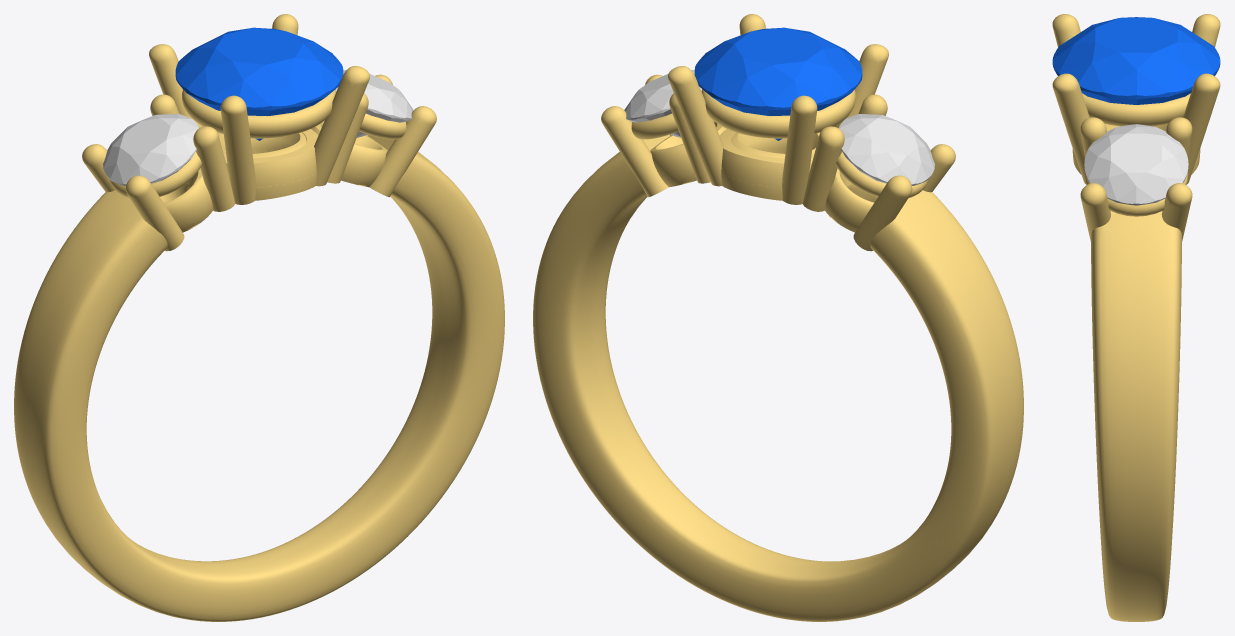
The model's file is bluesapphire-round-yellowgold-4prong-straighttaperedband-2stone.glb.
The picture shows the model from 3 angles, left to right: view 1: azimuth 30°, elevation 25°; view 2: azimuth 150°, elevation 25°; view 3: azimuth 270°, elevation 25°; orthographic projection.
Visible parts, largest first — view 1: metal, stone, side.001, side; view 2: metal, stone, side.001, side; view 3: metal, stone, side.
Part boxes in pixels (x1,y1,x2,y2): metal: (14, 14, 504, 621); stone: (175, 27, 343, 140); side.001: (103, 114, 198, 185); side: (336, 70, 413, 137); metal: (533, 14, 1023, 621); stone: (694, 27, 862, 140); side.001: (838, 114, 934, 185); side: (624, 70, 701, 137); metal: (1052, 14, 1220, 621); stone: (1052, 17, 1220, 104); side: (1084, 124, 1188, 205).
Size of the model in its own units: 20.5 by 23.81 by 6.45.
